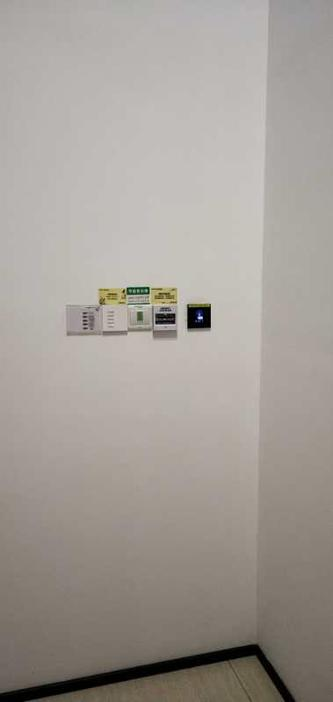switch: (103, 310, 128, 331), (132, 309, 155, 328)
